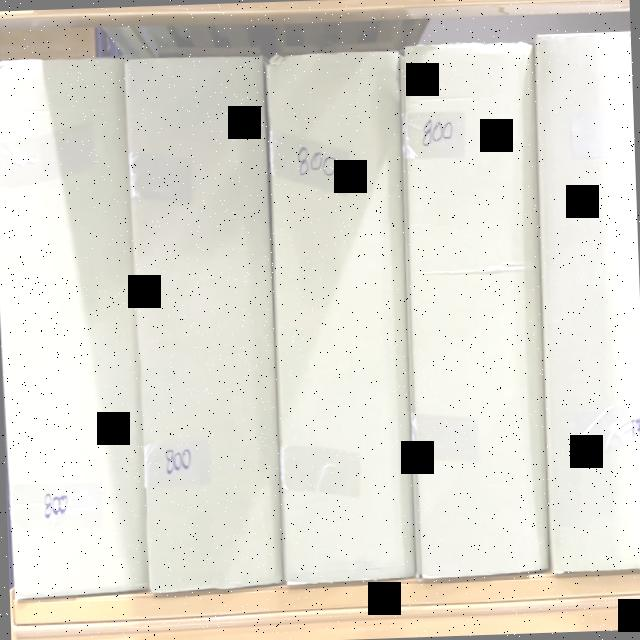box: (128, 58, 284, 592), (0, 64, 144, 597), (406, 44, 548, 583), (271, 58, 414, 580)
